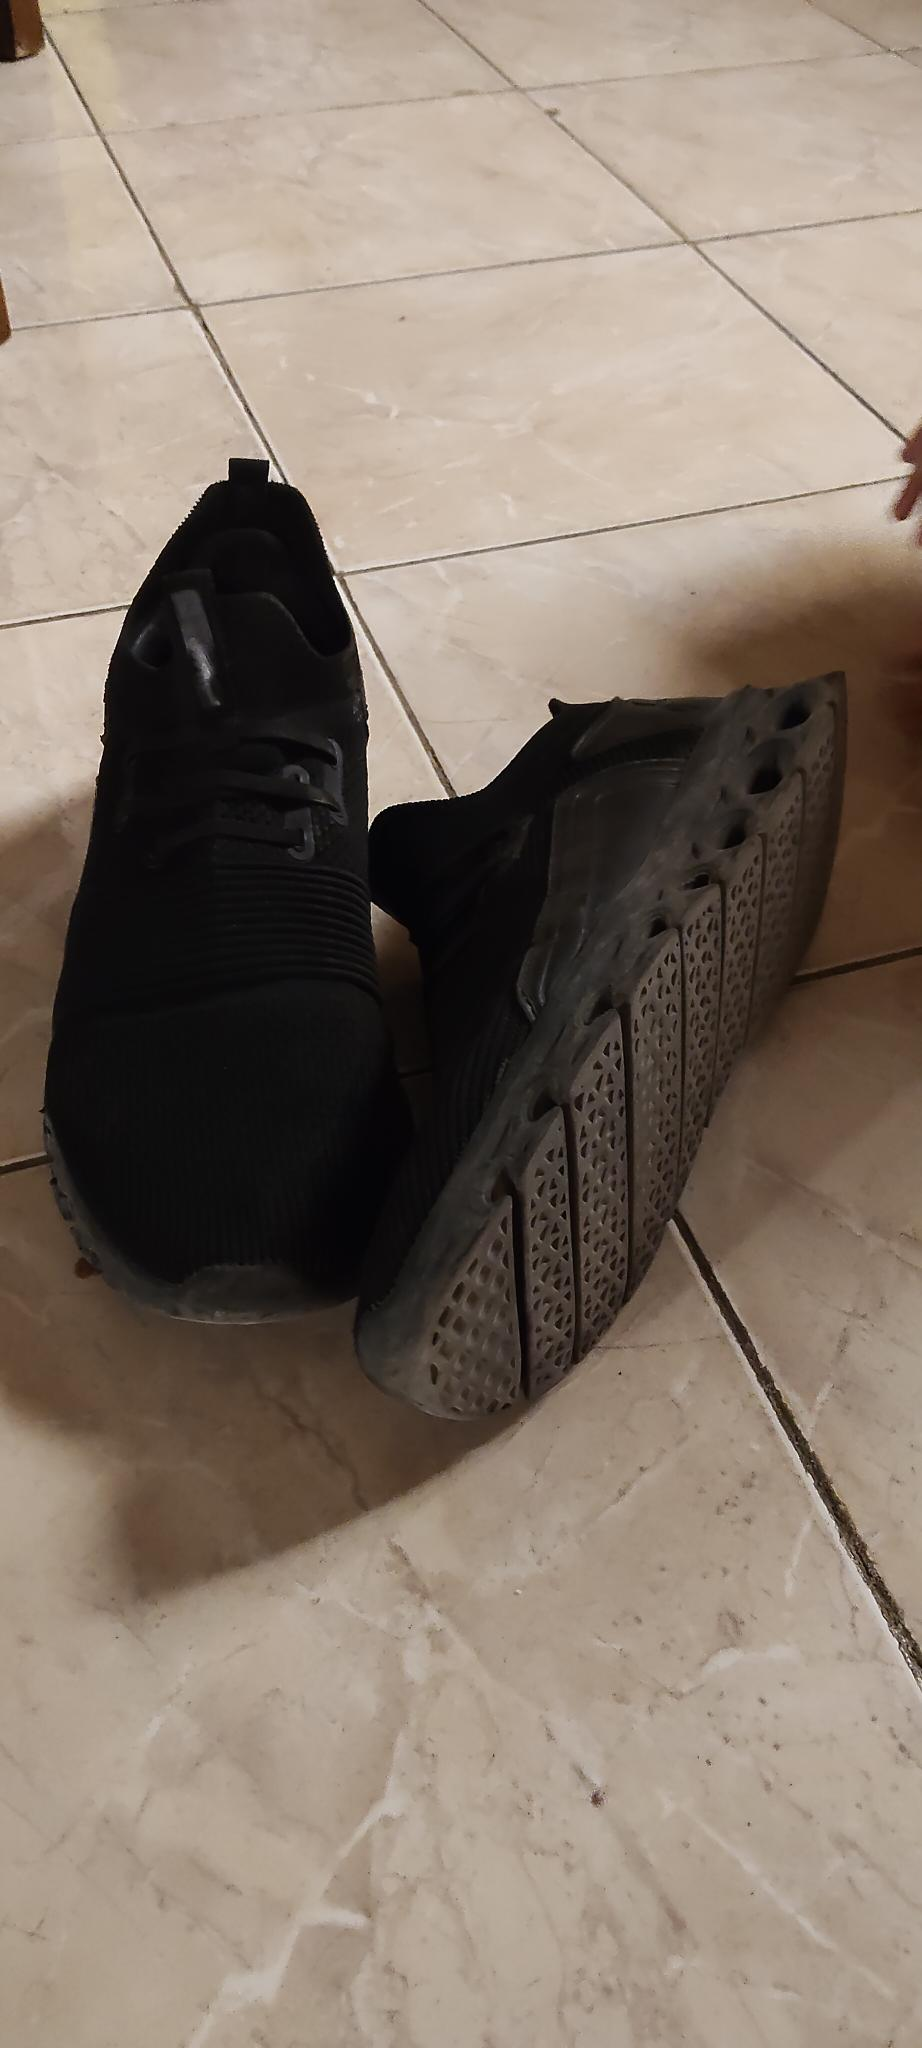Shoes: (355, 673, 850, 1423), (40, 458, 368, 1326)
